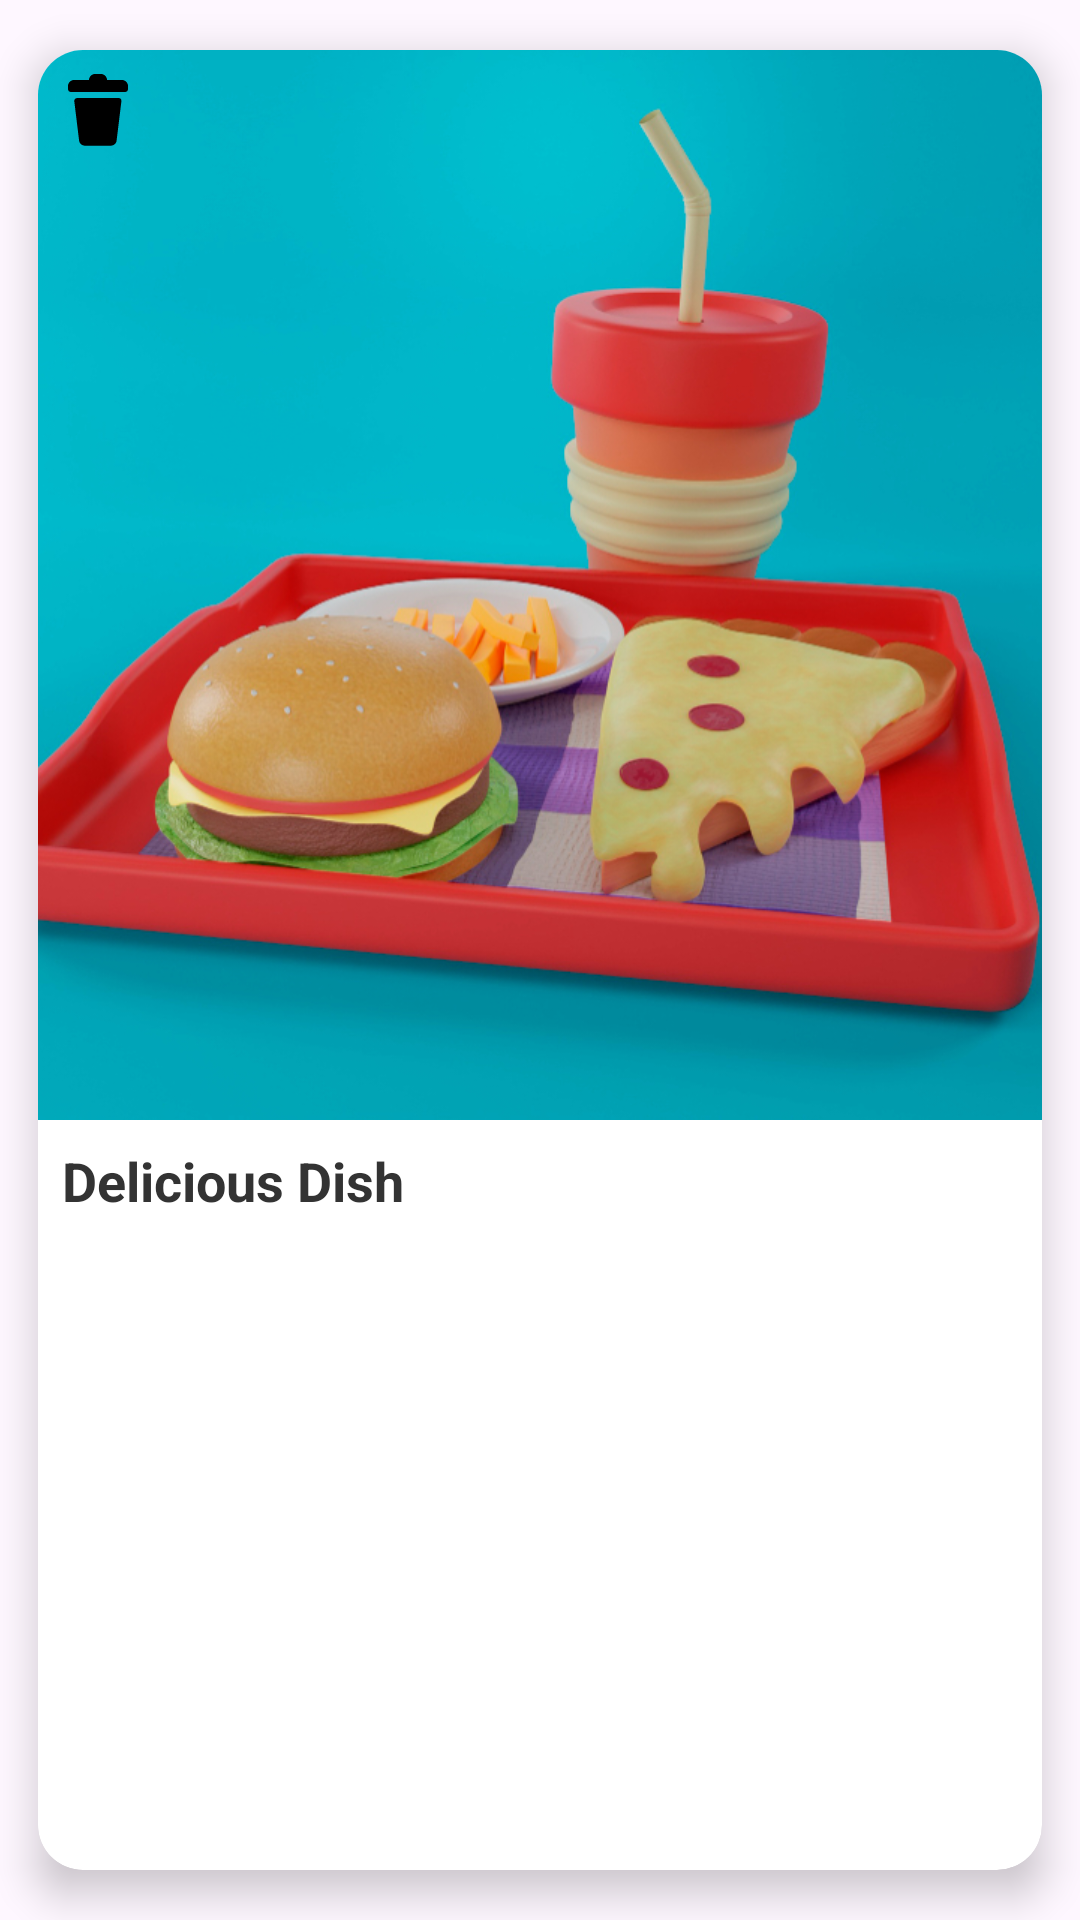

Icon bounding boxes for this 1080w x 1920h phone screenshot, format [x1=x1, y1=y1, x2=x2, y2=y2]:
delete: [x1=68, y1=74, x2=128, y2=146]
